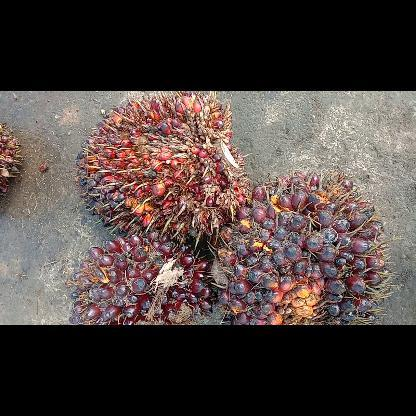Kurang masak: (213, 168, 392, 324), (68, 232, 214, 324)
TBS masak: (75, 93, 249, 245)
